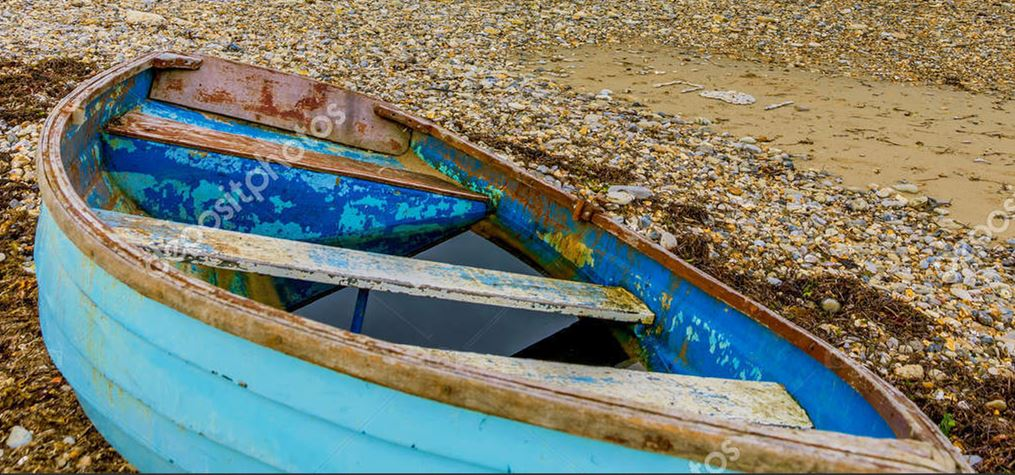boat_cabin: (21, 38, 988, 475)
